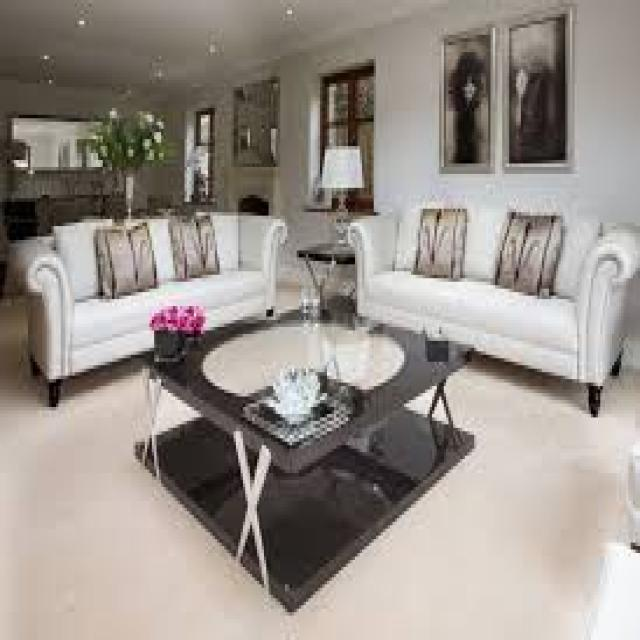Lamp: (321, 130, 366, 238)
Sofa: (325, 164, 640, 427), (10, 218, 296, 392)
Table: (105, 247, 490, 595), (300, 232, 360, 313)
